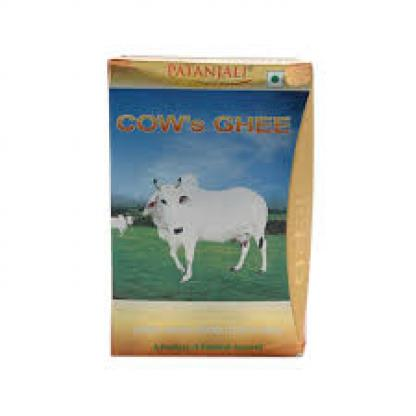CARDBOARD: (106, 54, 314, 355)
